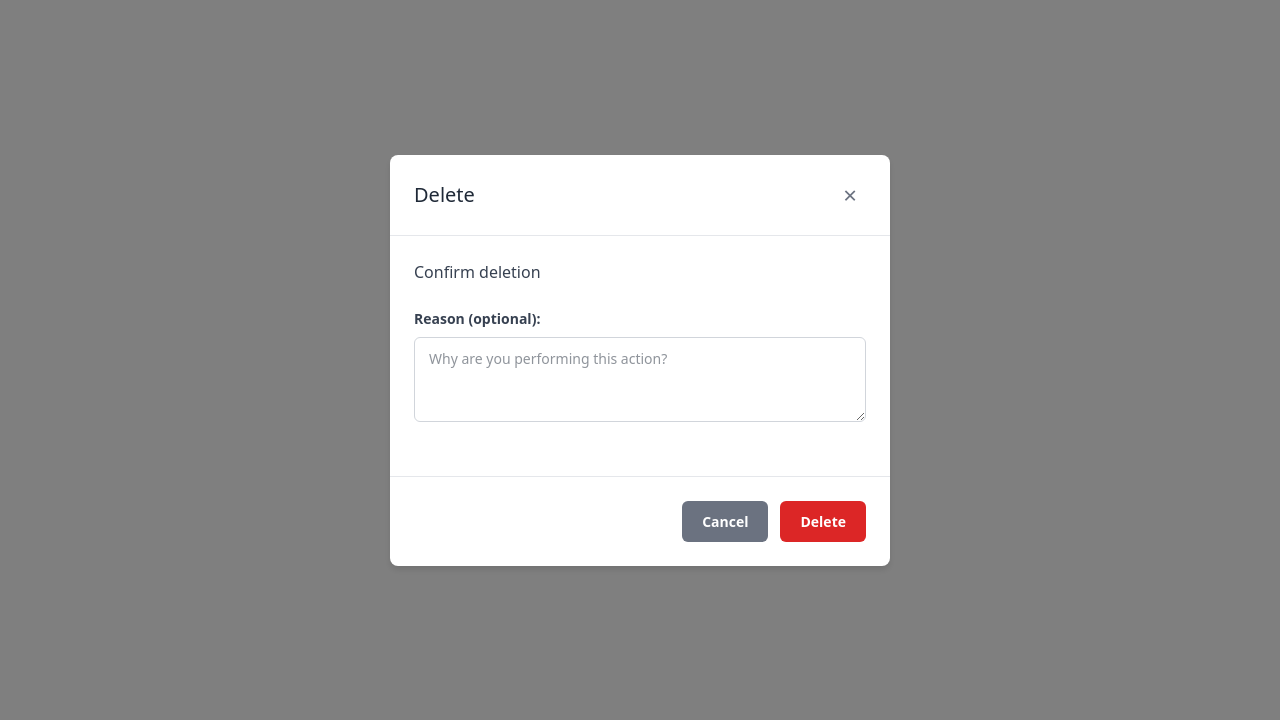
DeleteConfirmationModal › shows loading state during confirmation
This screenshot has width=1280, height=720.
Click the button "Delete". click: (823, 521)
box: [780,500,866,542]
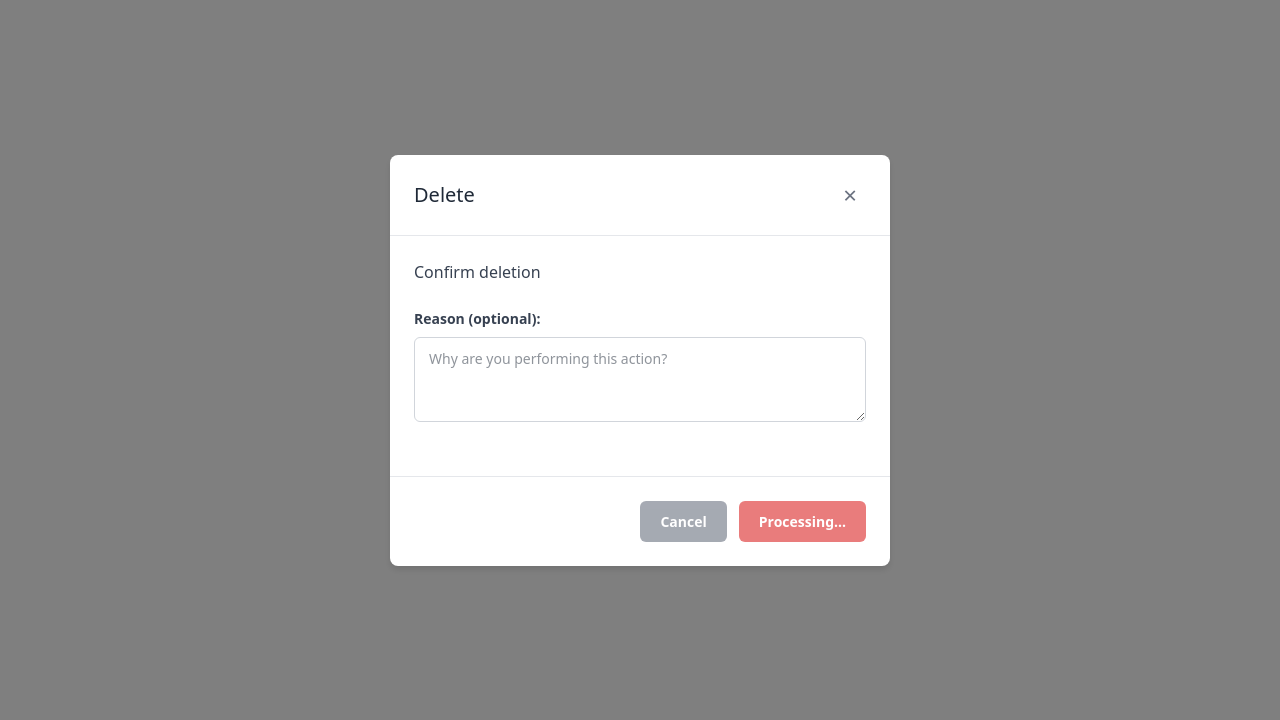
expect the button "Processing..." is disabled: met, box [739,500,866,542]
expect the button "Cancel" is disabled: met, box [640,500,727,542]
